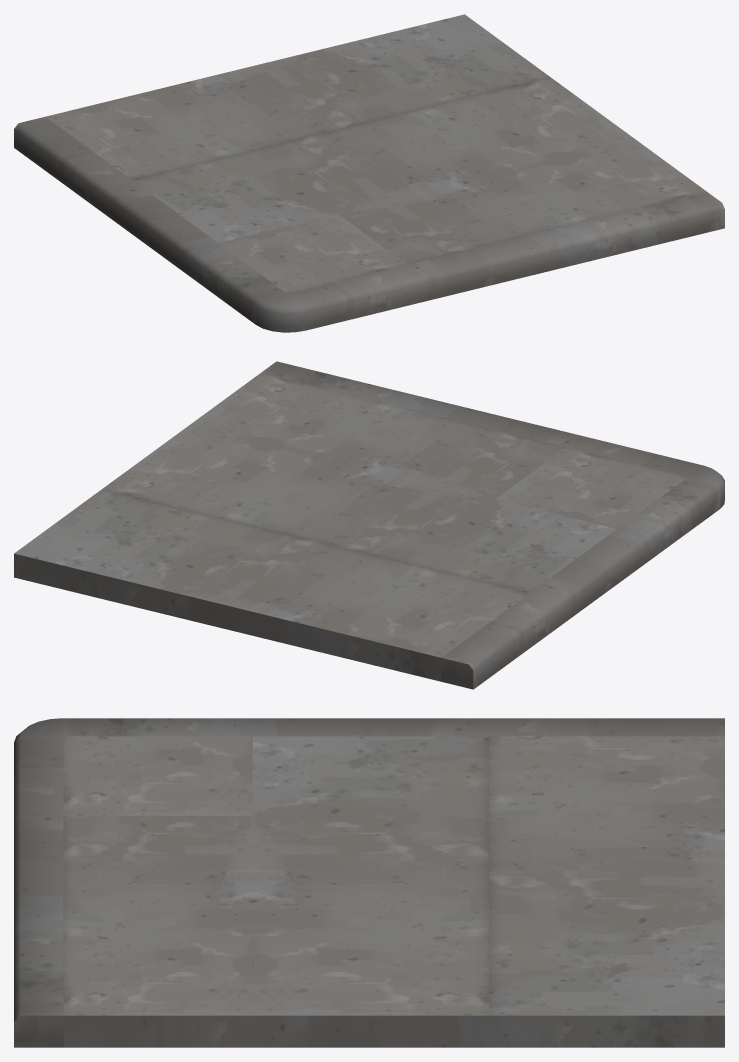
Rendered from Sidewalk_Corner_Flat_3m.gltf.
3 views of the same model, one above another, from view 1: azimuth 30°, elevation 25°; view 2: azimuth 150°, elevation 25°; view 3: azimuth 270°, elevation 25° (orthographic). The views are drawn at different scales.
Visible parts, largest first — view 1: Sidewalk_Corner_Flat_3m; view 2: Sidewalk_Corner_Flat_3m; view 3: Sidewalk_Corner_Flat_3m.
Boxes of the visible parts, bbox=[...] form: Sidewalk_Corner_Flat_3m: bbox=[14, 14, 724, 332]; Sidewalk_Corner_Flat_3m: bbox=[14, 361, 724, 689]; Sidewalk_Corner_Flat_3m: bbox=[14, 718, 724, 1047].
Size of the model in its own units: 3.01 by 0.15 by 3.01.
Materials: 1 (1 with a texture image).
